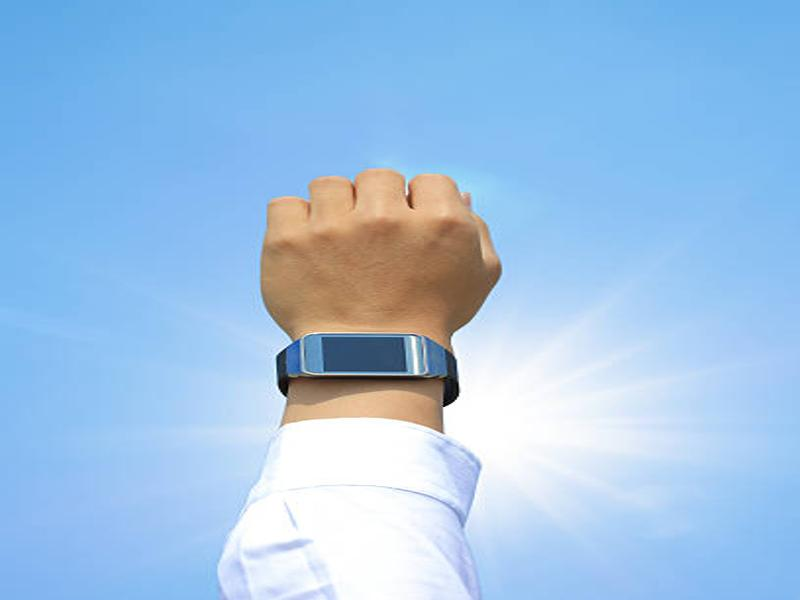watch: (269, 330, 461, 409)
